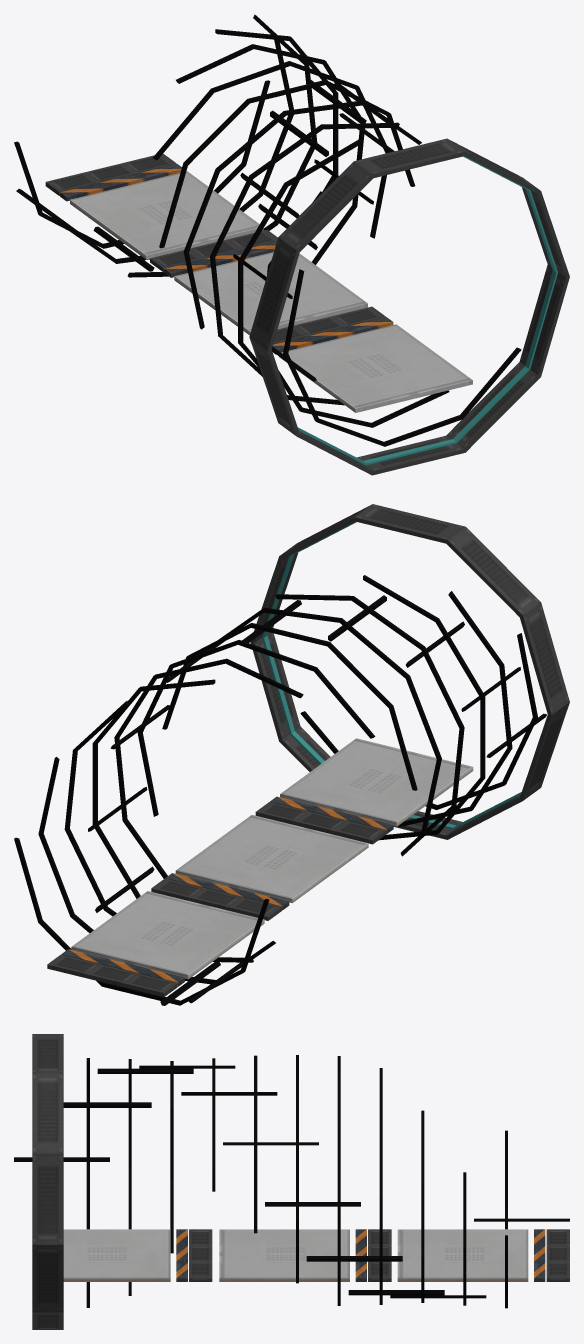
File: Colony_BridgeSection_Art.fbx
3 renders of one model, top to bottom at view 1: azimuth 30°, elevation 25°; view 2: azimuth 150°, elevation 25°; view 3: azimuth 270°, elevation 25°, orthographic. The views are drawn at different scales.
Parts seen in each view (by area): view 1: Colony_BridgeSection_Art; view 2: Colony_BridgeSection_Art; view 3: Colony_BridgeSection_Art.
Part boxes in pixels (x1=…): Colony_BridgeSection_Art: x1=14, y1=14, x2=569, y2=475; Colony_BridgeSection_Art: x1=14, y1=504, x2=569, y2=1005; Colony_BridgeSection_Art: x1=14, y1=1034, x2=569, y2=1329.
Size of the model in its own units: 713 by 678 by 1329.
